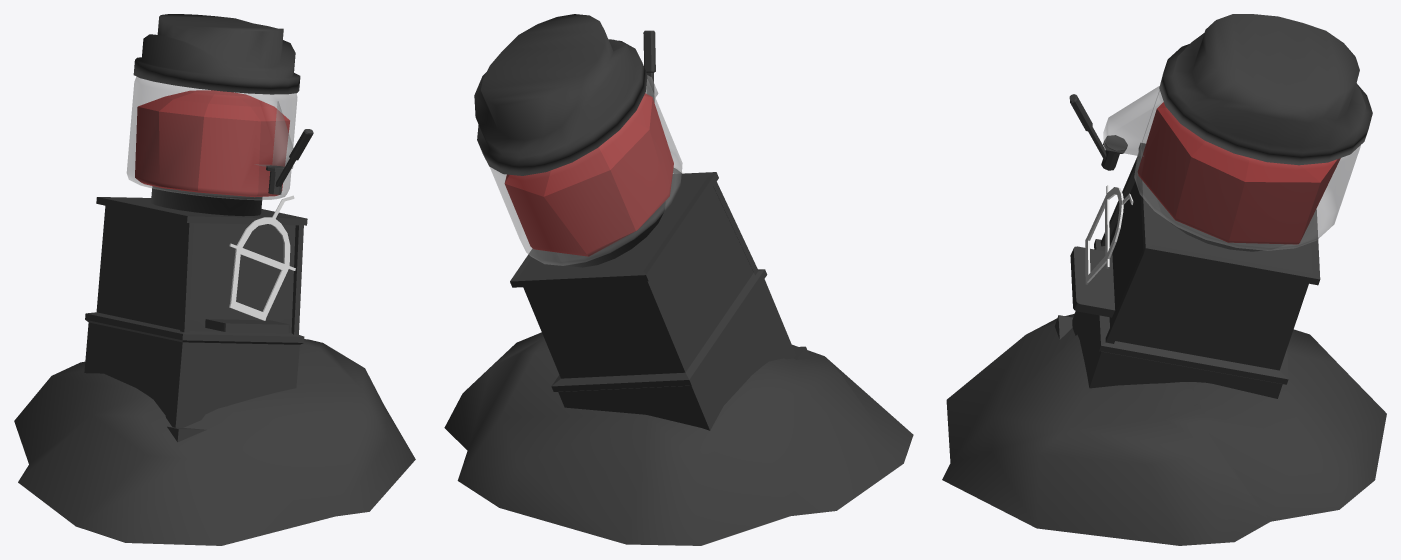
File: SlushMachine.fbx
The picture shows the model from 3 angles, left to right: view 1: azimuth 30°, elevation 25°; view 2: azimuth 150°, elevation 25°; view 3: azimuth 270°, elevation 25°; orthographic projection. The views are drawn at different scales.
Parts seen in each view (by area): view 1: SlushMach_InGround3; view 2: SlushMach_InGround3; view 3: SlushMach_InGround3.
Boxes of the visible parts, x1,y1,x2,y2 form: SlushMach_InGround3: (14,14,415,545); SlushMach_InGround3: (444,14,913,545); SlushMach_InGround3: (942,14,1386,545).
Size of the model in its own units: 2.88 by 3.3 by 2.78.
